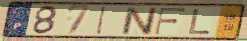7: (63, 4, 92, 37)
8: (31, 5, 58, 36)
F: (153, 7, 188, 36)
I: (94, 5, 108, 35)
L: (187, 8, 212, 35)
N: (121, 6, 158, 36)
